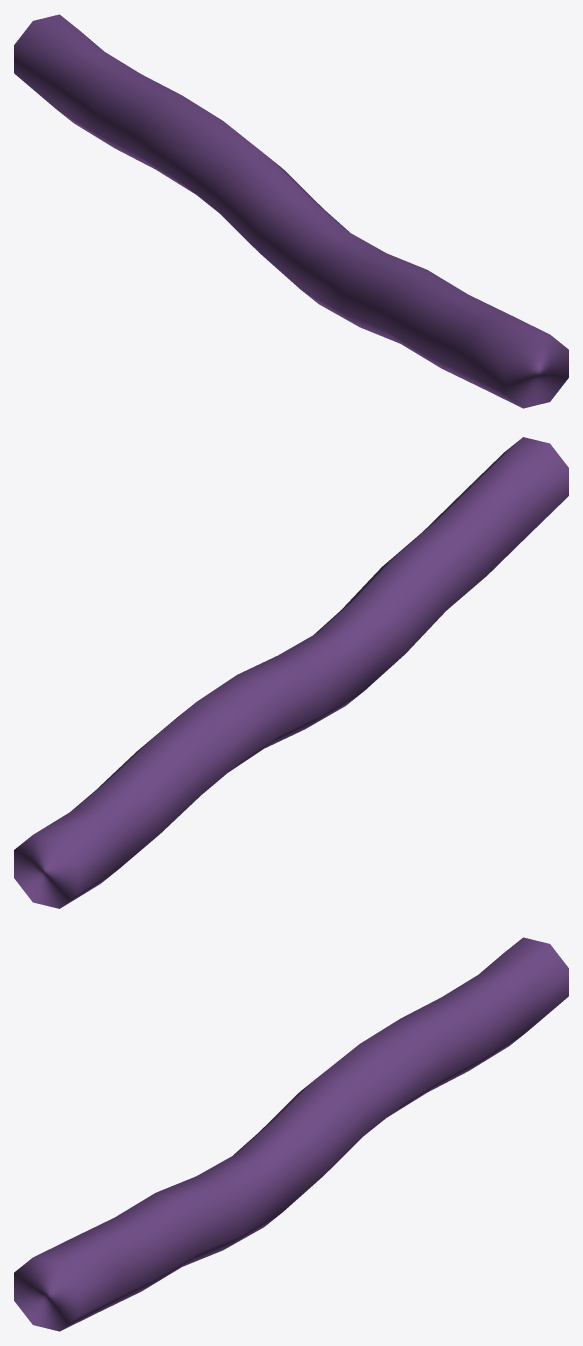
File: cable morado.fbx
The picture shows the model from 3 angles, top to bottom: view 1: azimuth 30°, elevation 25°; view 2: azimuth 150°, elevation 25°; view 3: azimuth 330°, elevation 25°; orthographic projection.
Visible parts, largest first — view 1: Cylinder.003; view 2: Cylinder.003; view 3: Cylinder.003.
Boxes of the visible parts, x1=… form: Cylinder.003: x1=14, y1=14, x2=568, y2=408; Cylinder.003: x1=14, y1=437, x2=568, y2=908; Cylinder.003: x1=14, y1=937, x2=568, y2=1331.
Size of the model in its own units: 25.62 by 42.81 by 337.
